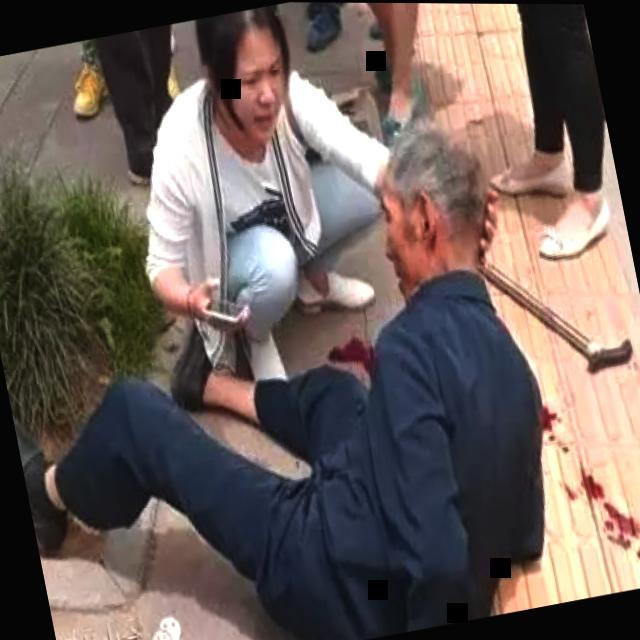Fall-Detected: (0, 80, 630, 640)
